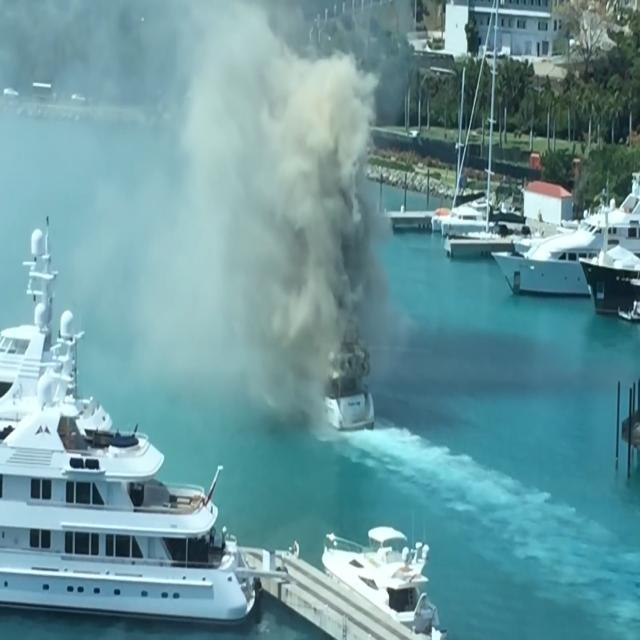smoke: (246, 15, 364, 336)
